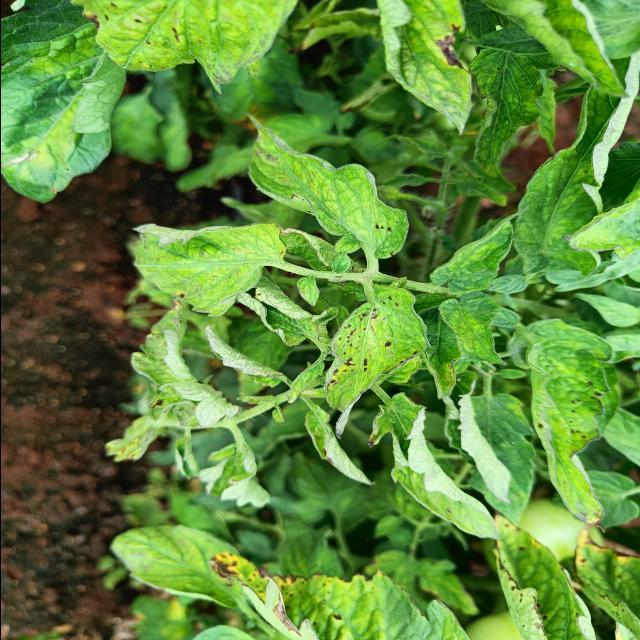Tomato mosaic virus leaf: (321, 282, 428, 439), (525, 357, 613, 537), (483, 508, 586, 640)
